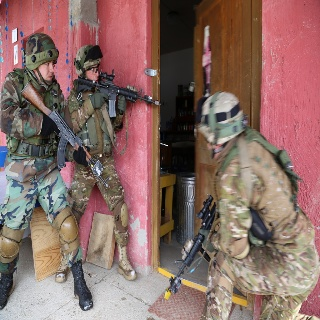rifle: (21, 81, 105, 185), (162, 194, 218, 303), (77, 69, 164, 118)
